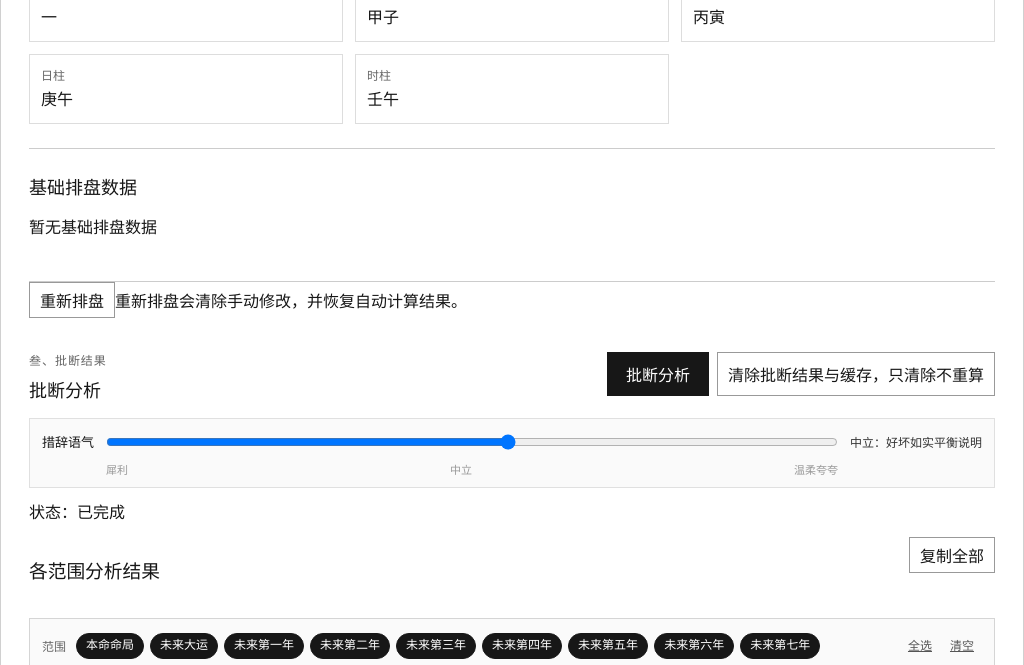
Test: 语气滑杆跟本机走，不写进会同步的 record › 重跑判定读本机 ran 键，不看 record.toneUsed
(page scrolled)
expect the slider holds "55": met, box [106,429,838,455]
Click the button "批断分析" at (658,374), box [607,352,709,396]
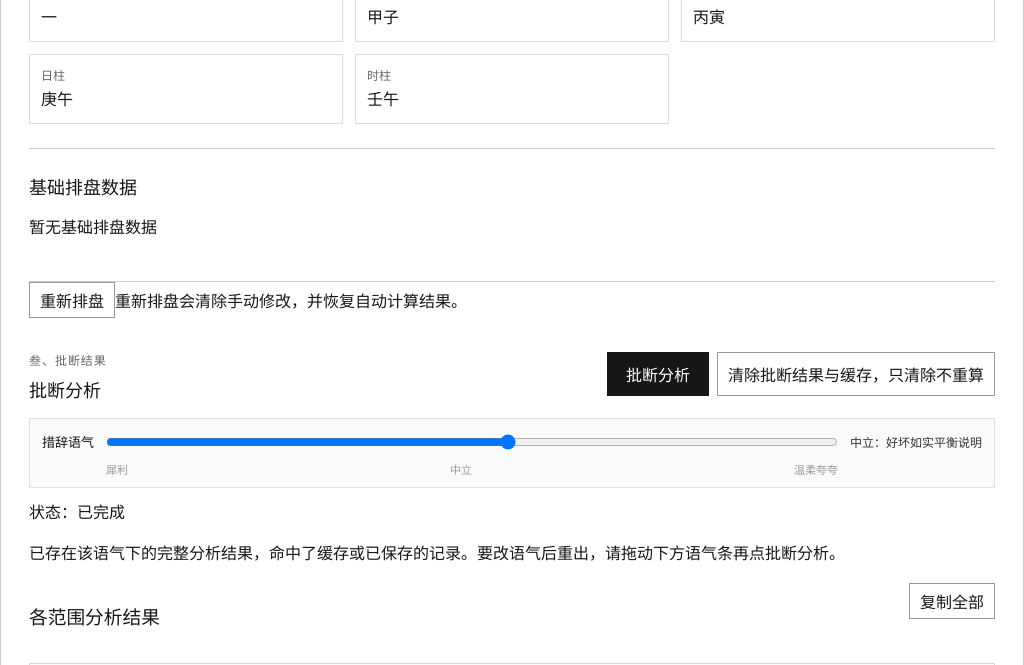
expect the text "已存在该语气下的完整分析结果，命中了缓存或已保存的记录。要改语气后重出，请拖动下方语气条再点批断分析。" is shown: met, box [29,545,845,562]
